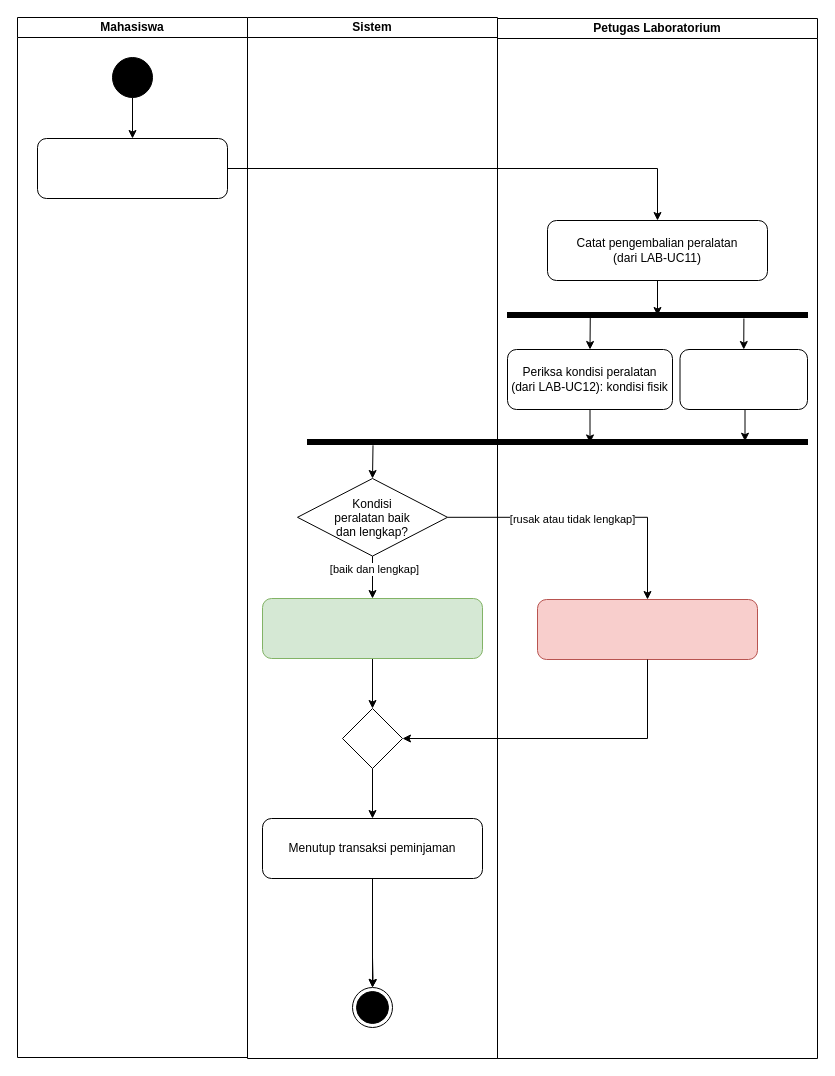
This 835x1076 diagram has some shape labels left out. The shapes that lost their labels are listed below. From the top down, each one's centre as x and y in pixels, then its label:
the point at 132,168: Menyerahkan peralatan yang dipinjam
the point at 743,379: Periksa kelengkapan aksesori peralatan (unsur proses baru)
the point at 372,628: Perbarui status peralatan menjadi tersedia
the point at 647,629: Catat kerusakan atau kekurangan dan jadwalkan perbaikan
